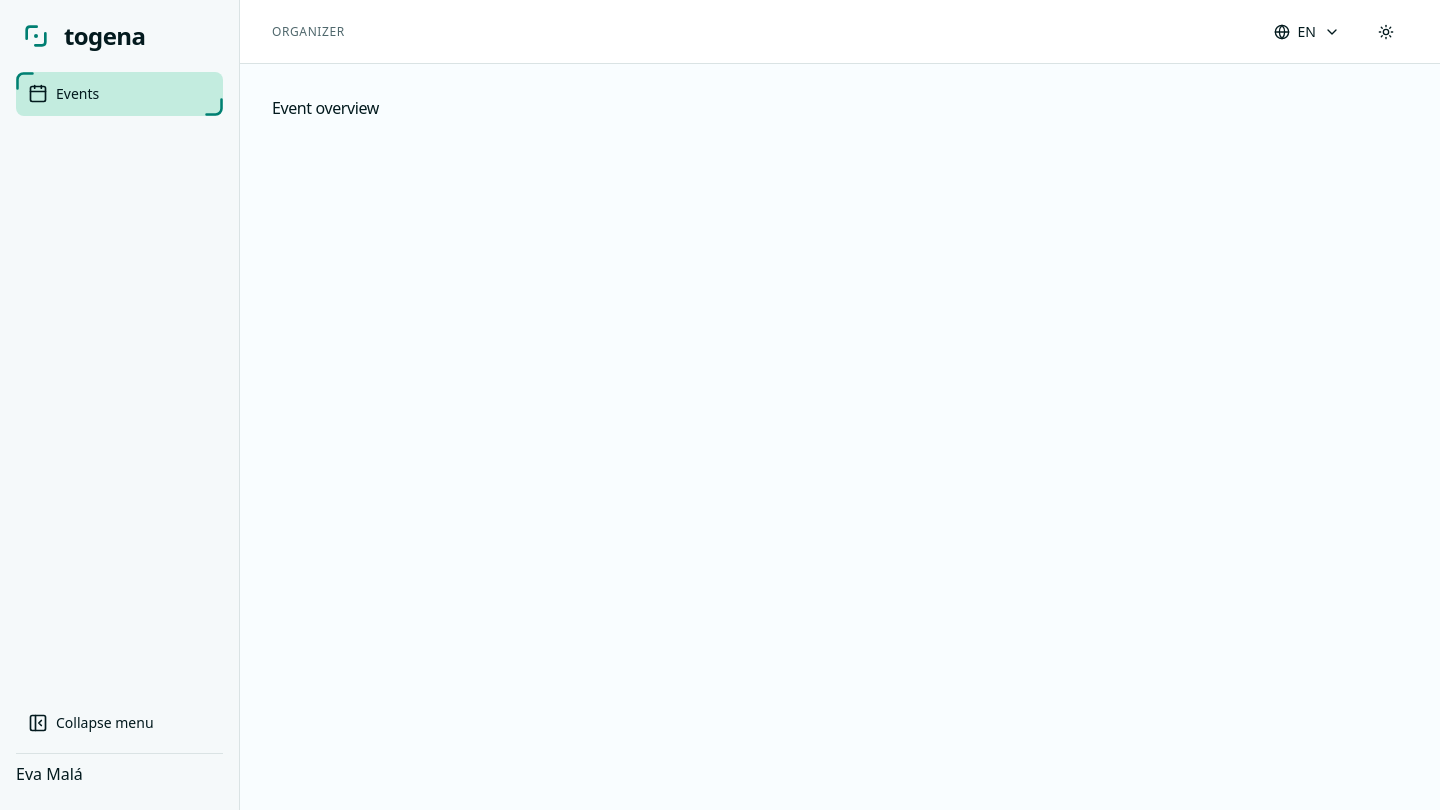
Test: AreaLayout sidebar › can collapse the menu when browser storage is unavailable
What coordinates should you click on to do the following:
click the button "Collapse menu"
I would click on:
 (120, 723)
Its box is [16,701,223,745].
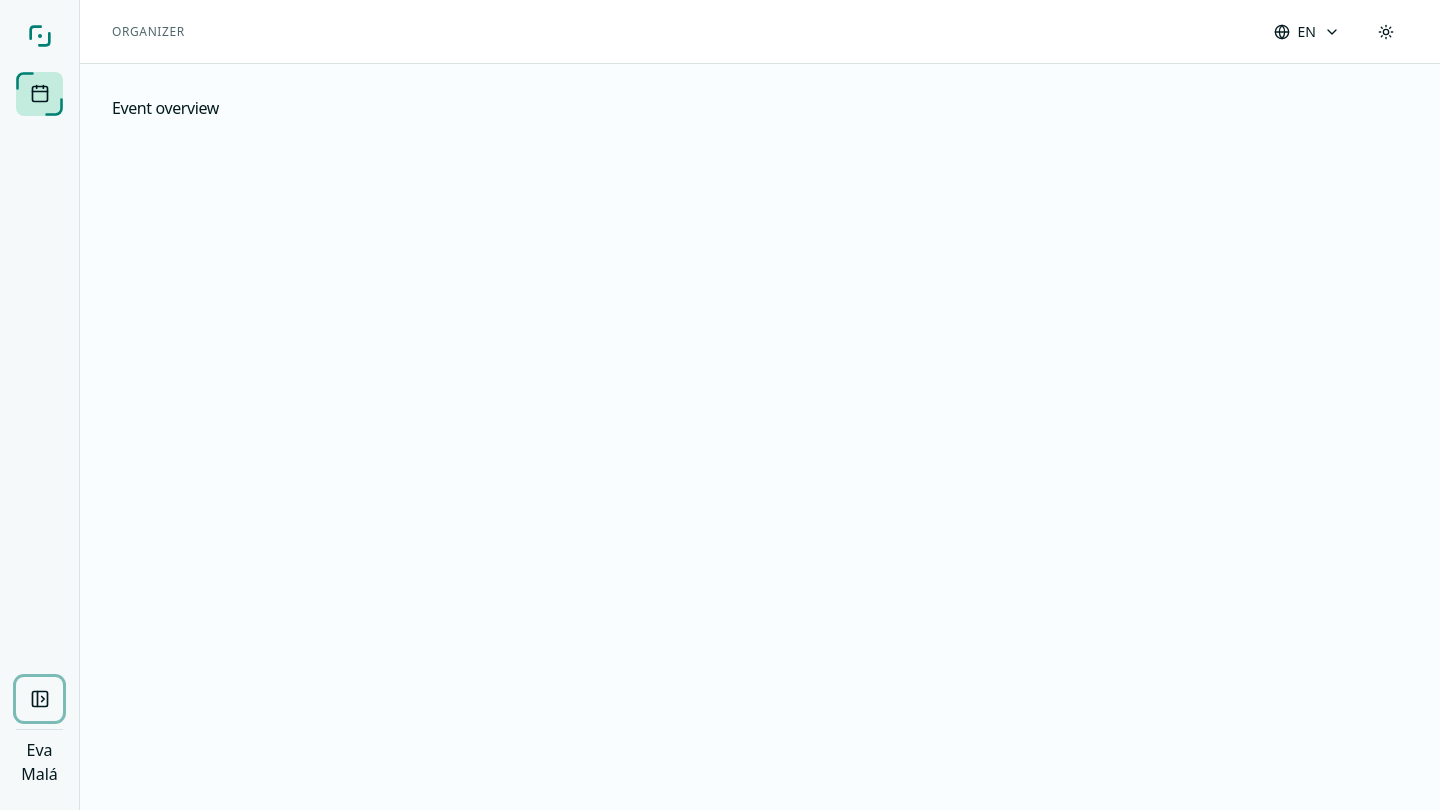
Expected: the button named "Expand menu" is collapsed, [16,677,63,721]
